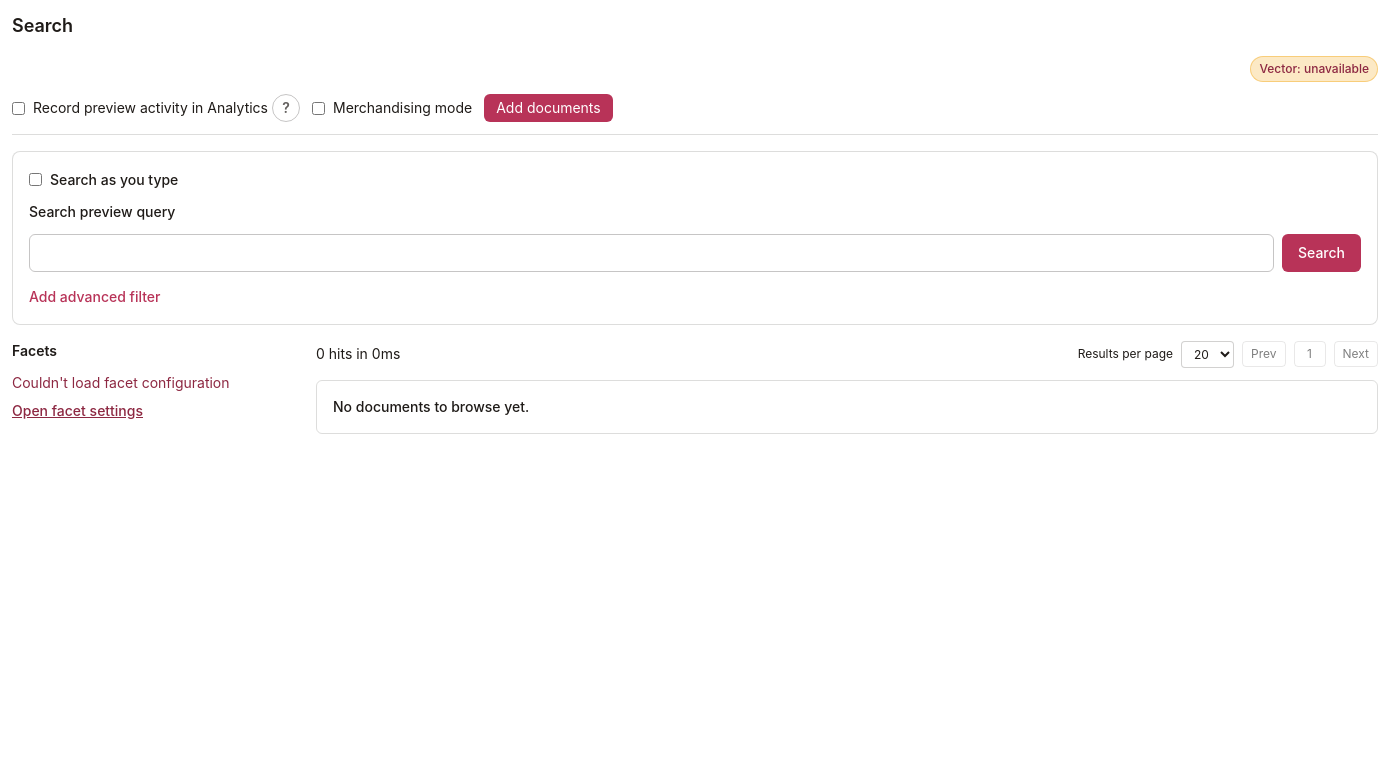
Scenario: SearchTab › shows merch controls on document cards when merch mode is ON
Click the checkbox labelled "Merchandising mode". click: x=318, y=108
box: [312,102,325,114]
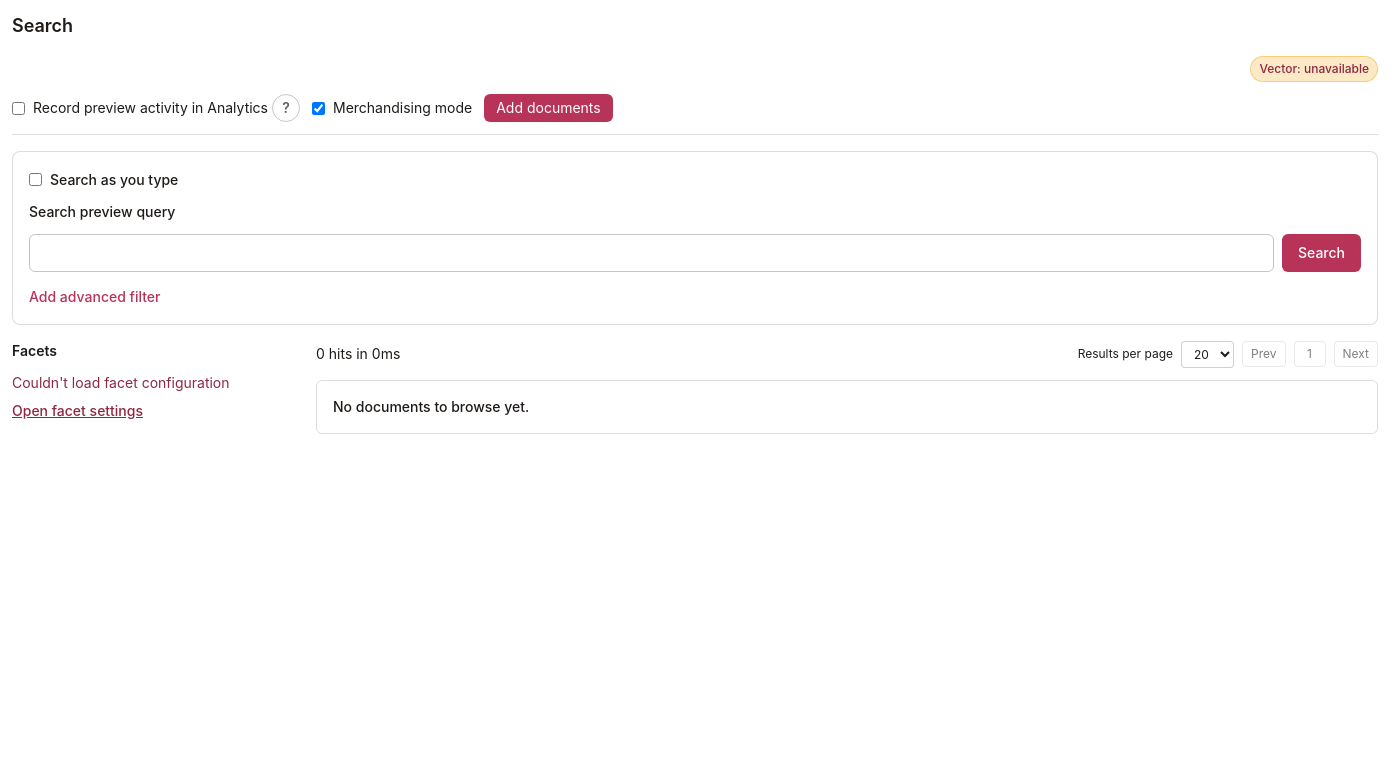
Type "Merch" into the search field labelled "Search preview query". click: x=652, y=252
box: [29,234,1274,272]
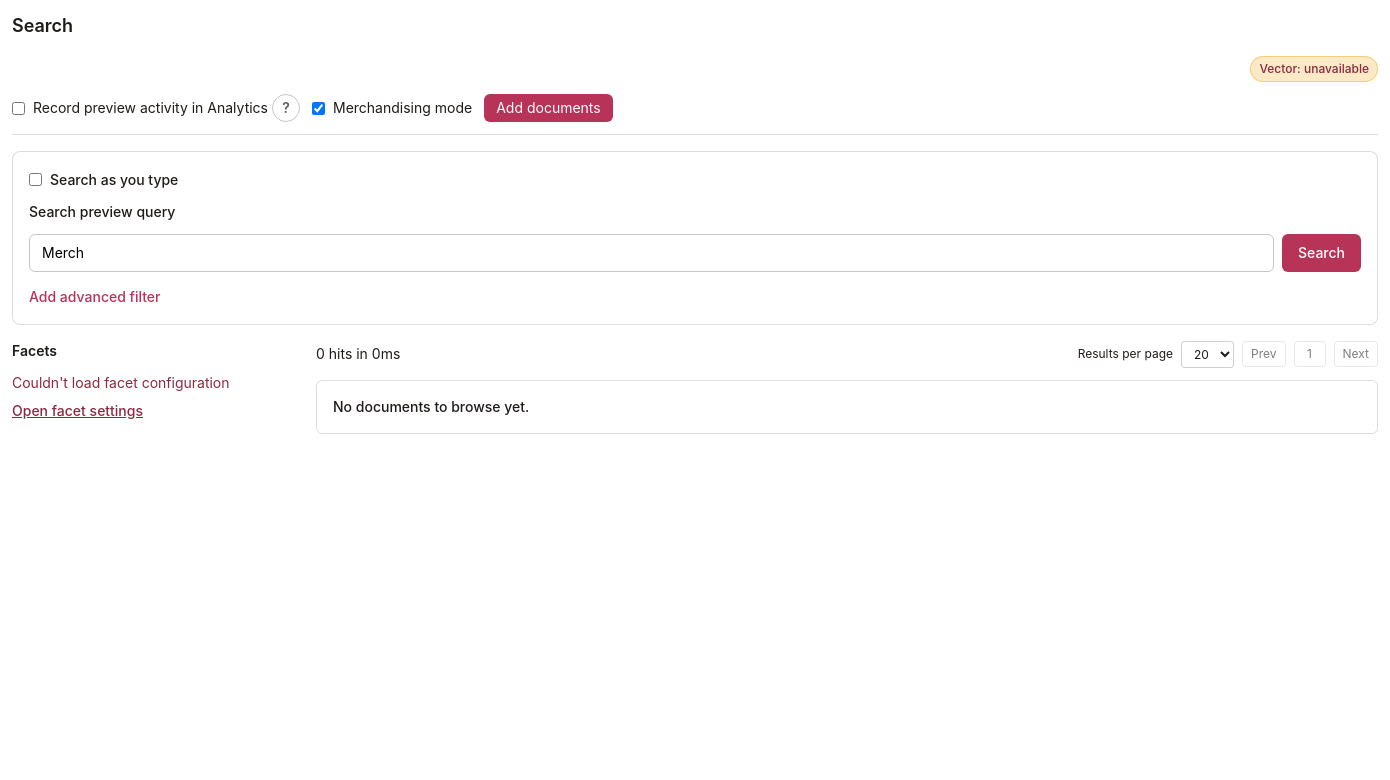
Press Enter in the search field labelled "Search preview query", box [29,234,1274,272]
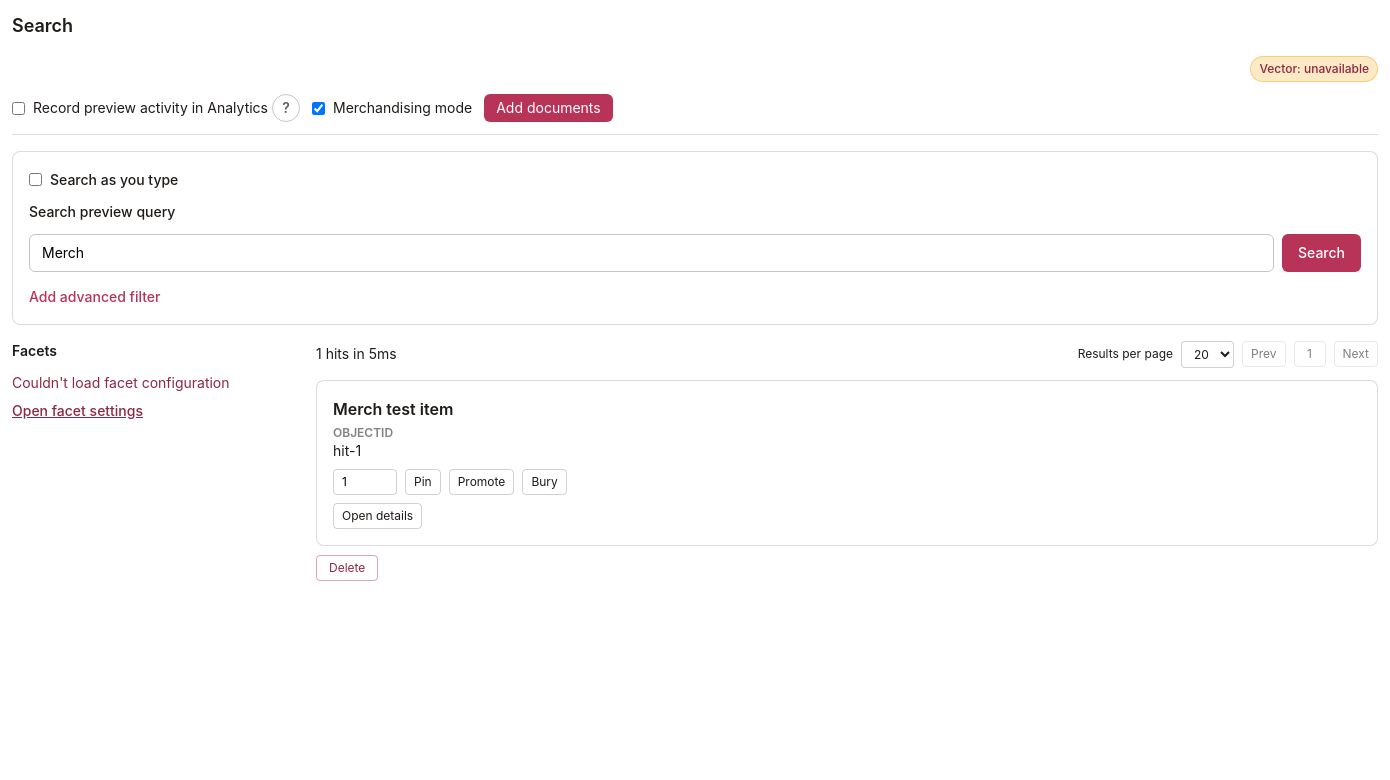
Check: the text "Merch test item" is shown, box [333,398,453,418]
Check: the button with test id "card-merch-pin" is shown, box [405,468,441,494]
Check: the button with test id "card-merch-promote" is shown, box [449,468,514,494]
